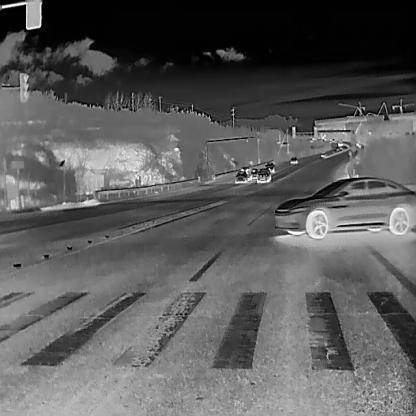car: (274, 176, 415, 240), (255, 168, 270, 183), (233, 170, 248, 184), (239, 165, 252, 181), (264, 160, 275, 172), (250, 167, 258, 179), (289, 155, 298, 164), (336, 138, 343, 147), (320, 150, 325, 157), (332, 148, 336, 153), (335, 146, 339, 151), (355, 142, 359, 147), (331, 138, 335, 142), (358, 143, 361, 148)
